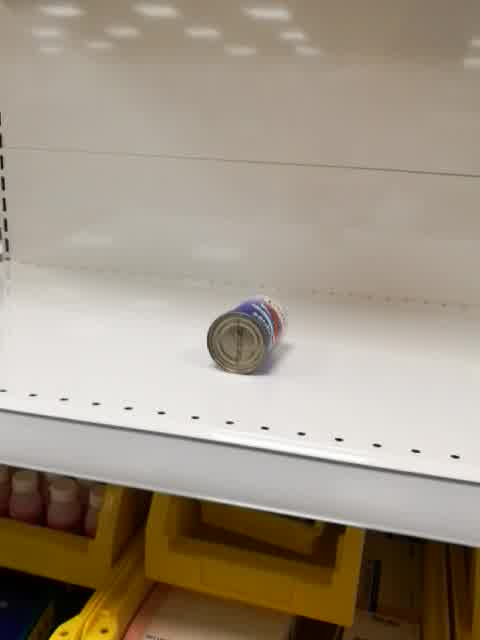sardine: (205, 295, 289, 377)
